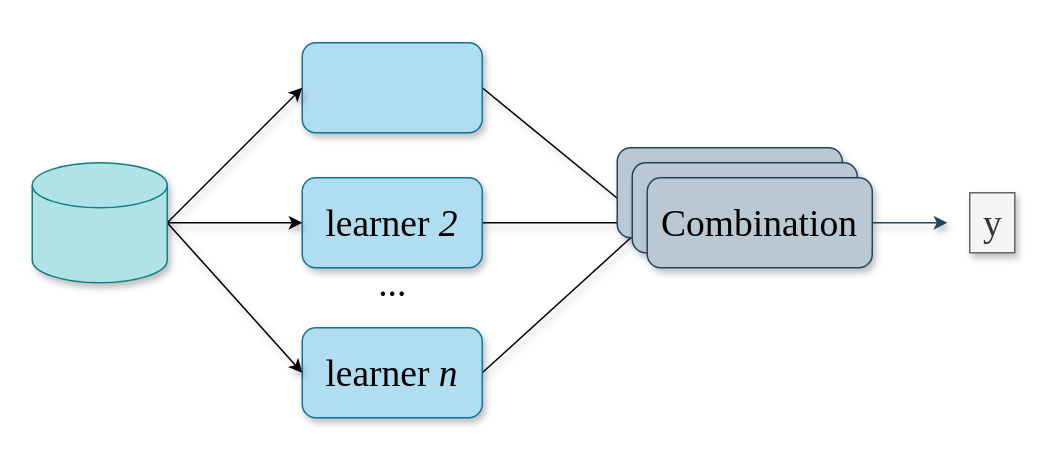
Some shapes in this 1050 by 455 pixel diagram are drawn without their labels. The shapes that lost their labels are listed below. From the top down, each one's centre as x and y in pixels, then its label:
[393,89]: learner 1
[100,224]: Data
